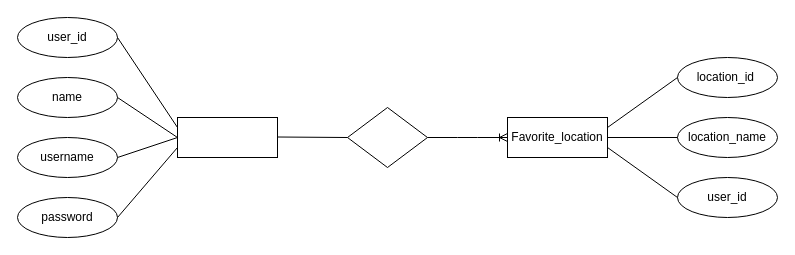
Image size: 795x255. Some labels were removed from this diagram. The centre of each missing label's shape, as x and y in pixels:
"save" goes at (x=387, y=137).
"User" goes at (x=227, y=137).
